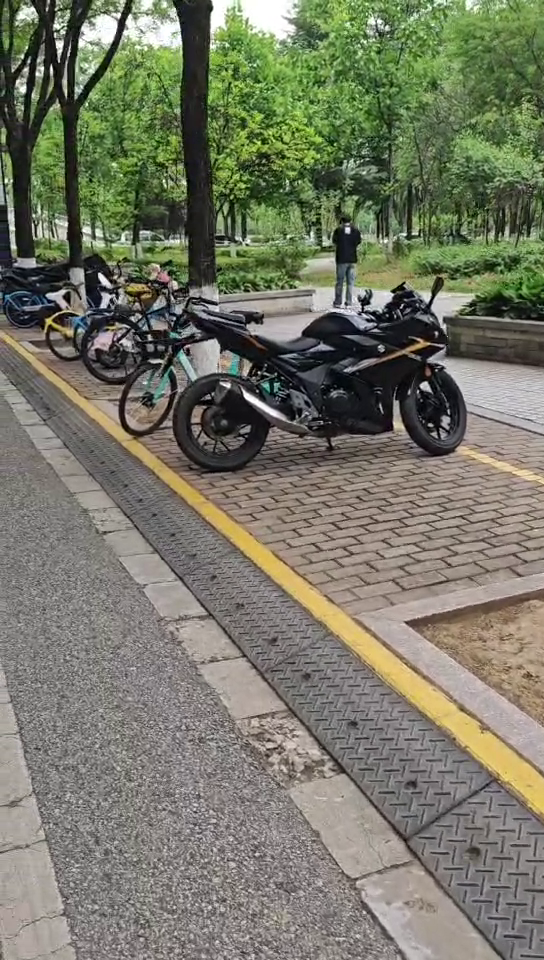others: (191, 302, 481, 462)
shared_bike_qingcong: (121, 293, 303, 420)
